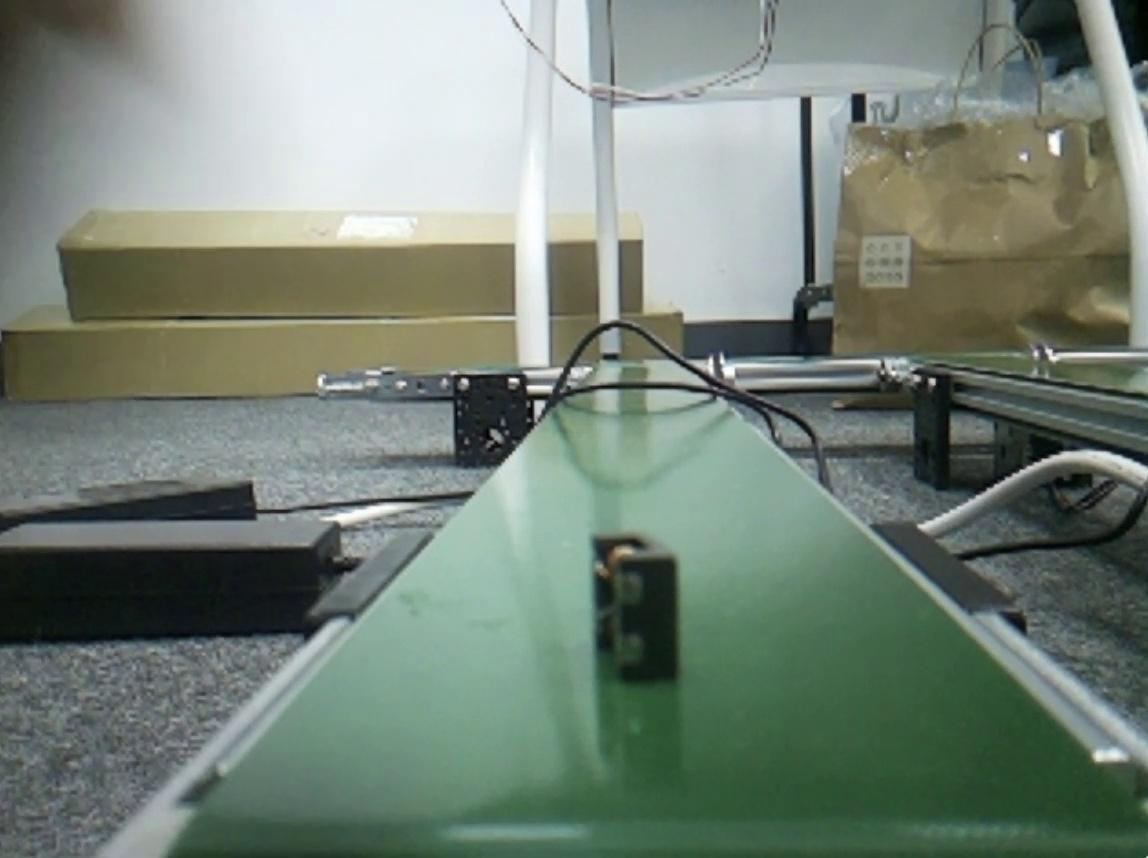inductor: (595, 537, 678, 681)
